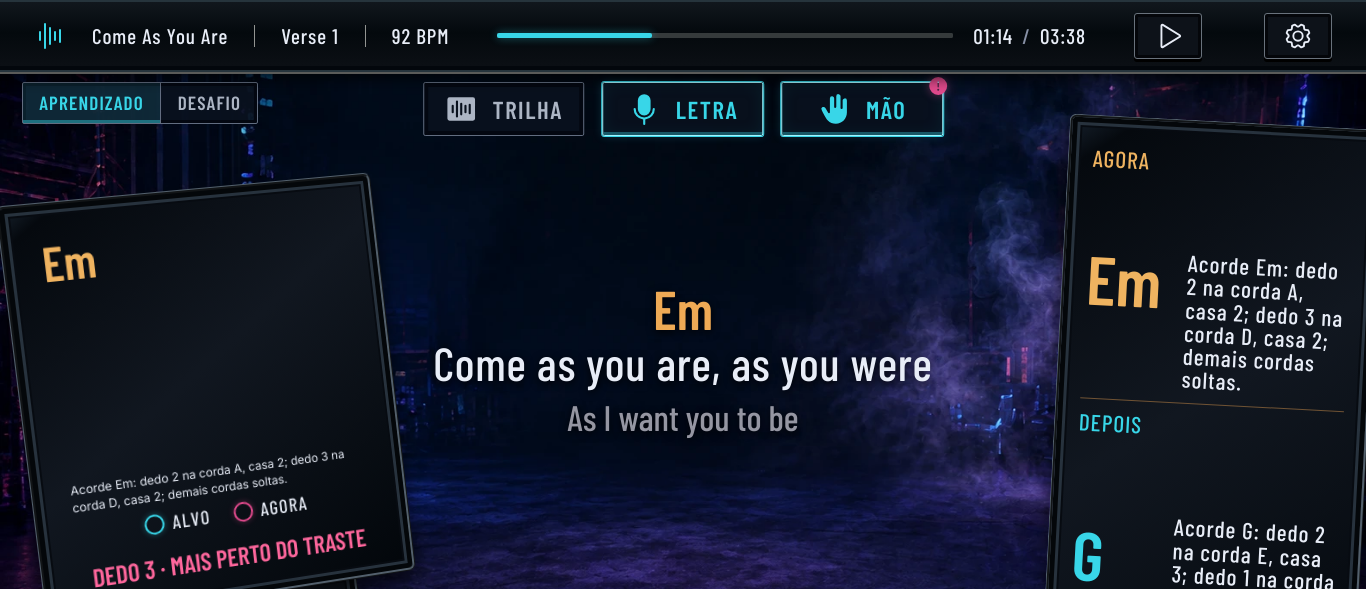
Test: practice screen › starts paused and toggles playback
Click the button named "Reproduzir": (1168,36) [1134,13,1202,59]
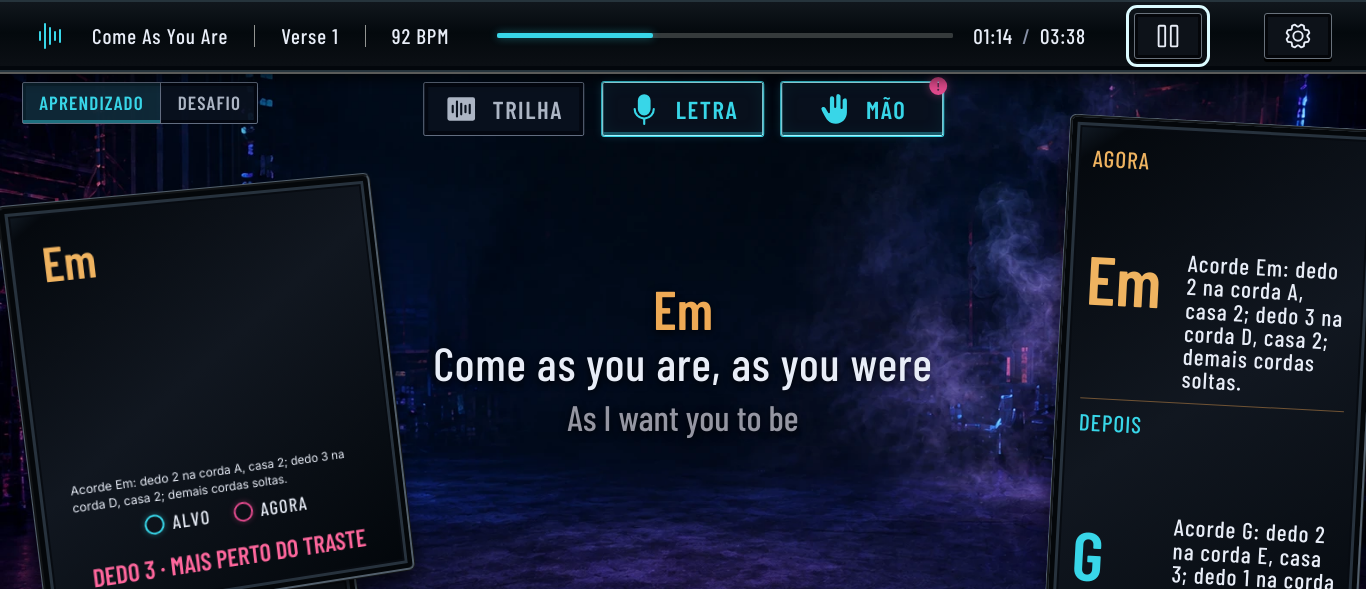
Now the button named "Pausar" is shown, box [1134,13,1202,59]
